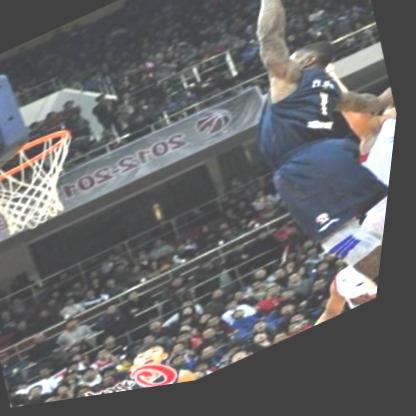basketball: (211, 0, 280, 17)
rim: (0, 124, 99, 252)
